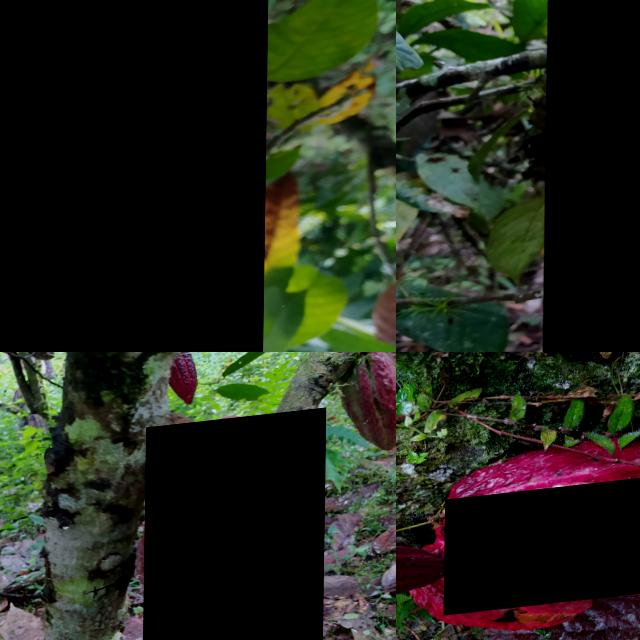Fitoftora: (143, 419, 326, 640)
Monilia: (0, 0, 269, 352), (544, 0, 640, 352), (444, 475, 640, 621)
Sana: (440, 447, 640, 513), (413, 577, 594, 640), (338, 352, 396, 467), (396, 536, 458, 618), (166, 356, 199, 418)
